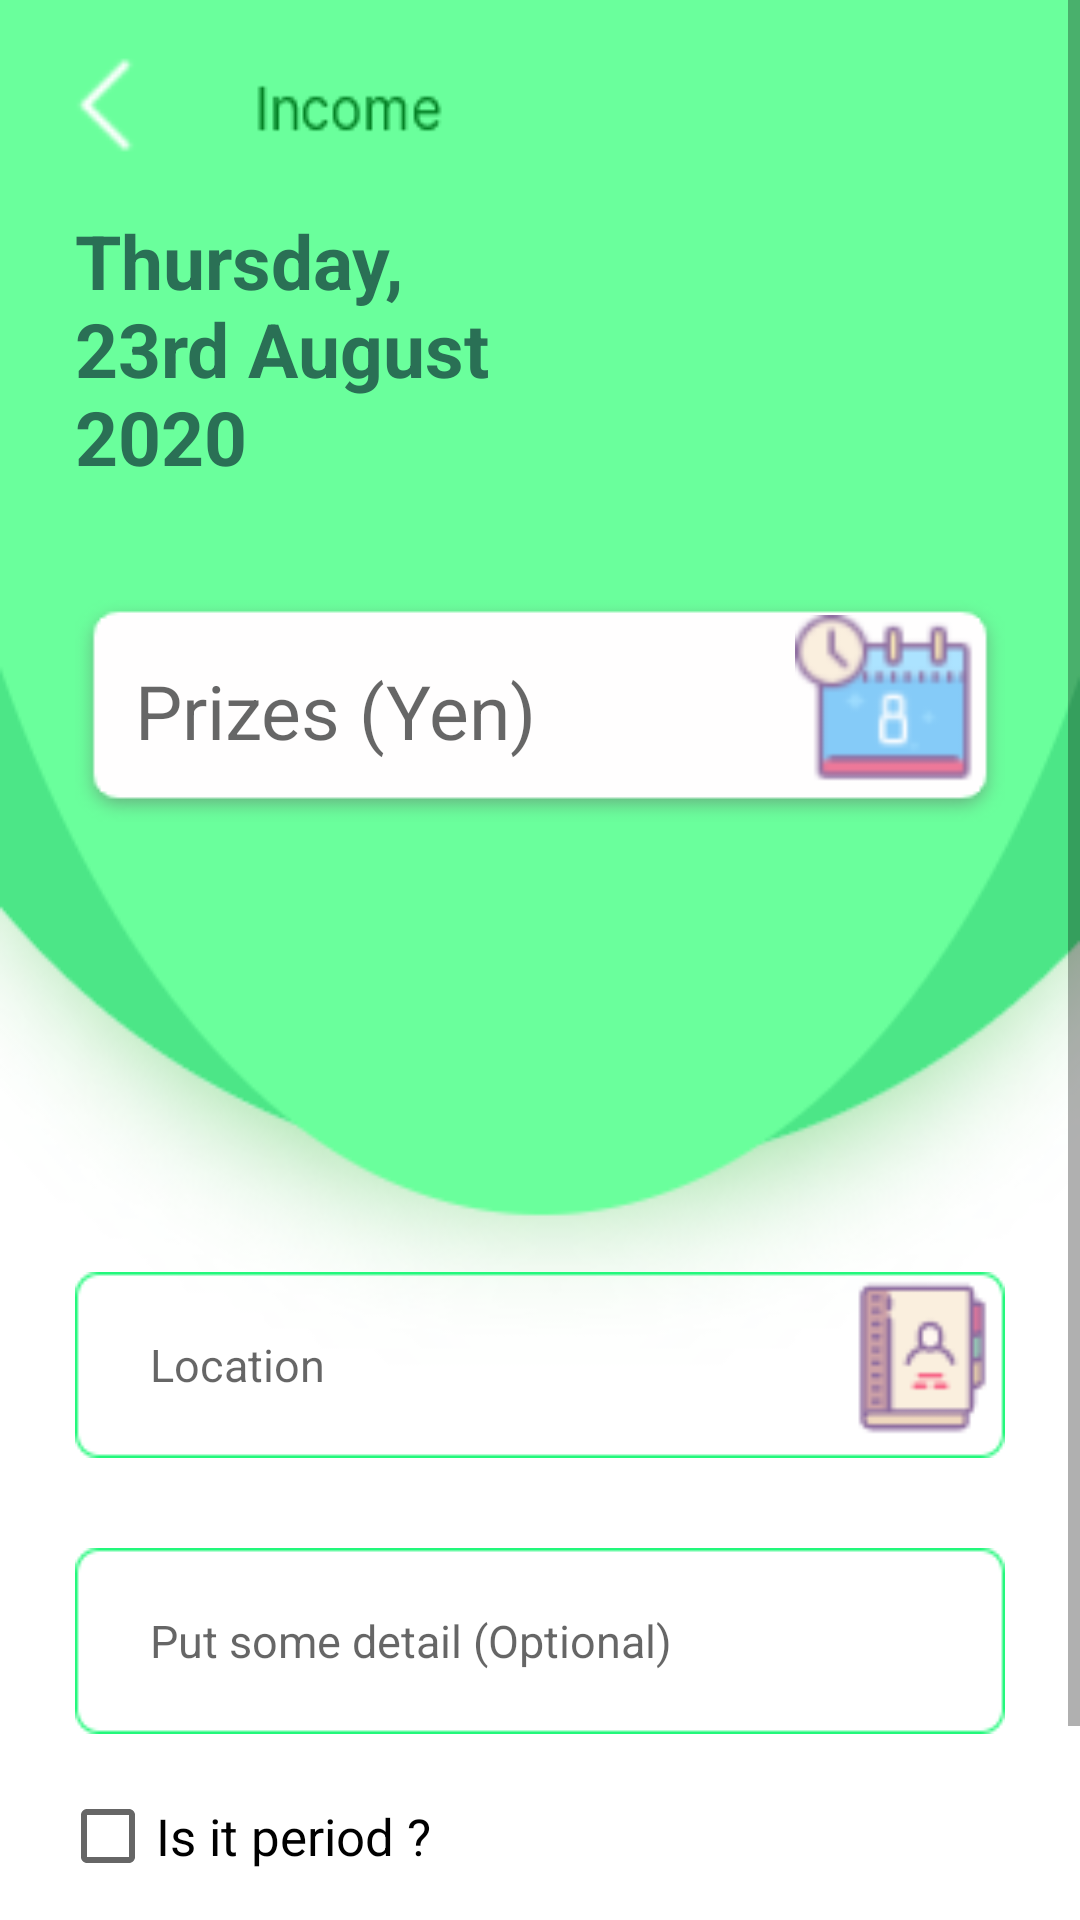

Icons on this 1080w x 1920h Android screen, each with its box as Rect(x1, y1, x2, y2):
back: Rect(80, 59, 132, 151)
calendar: Rect(795, 615, 972, 780)
contact: Rect(859, 1283, 986, 1433)
